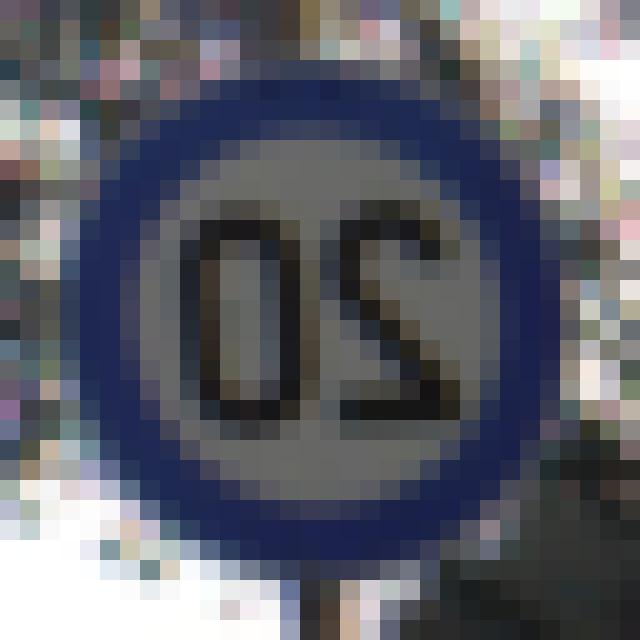SPEED LIMIT 20: (85, 100, 535, 562)
